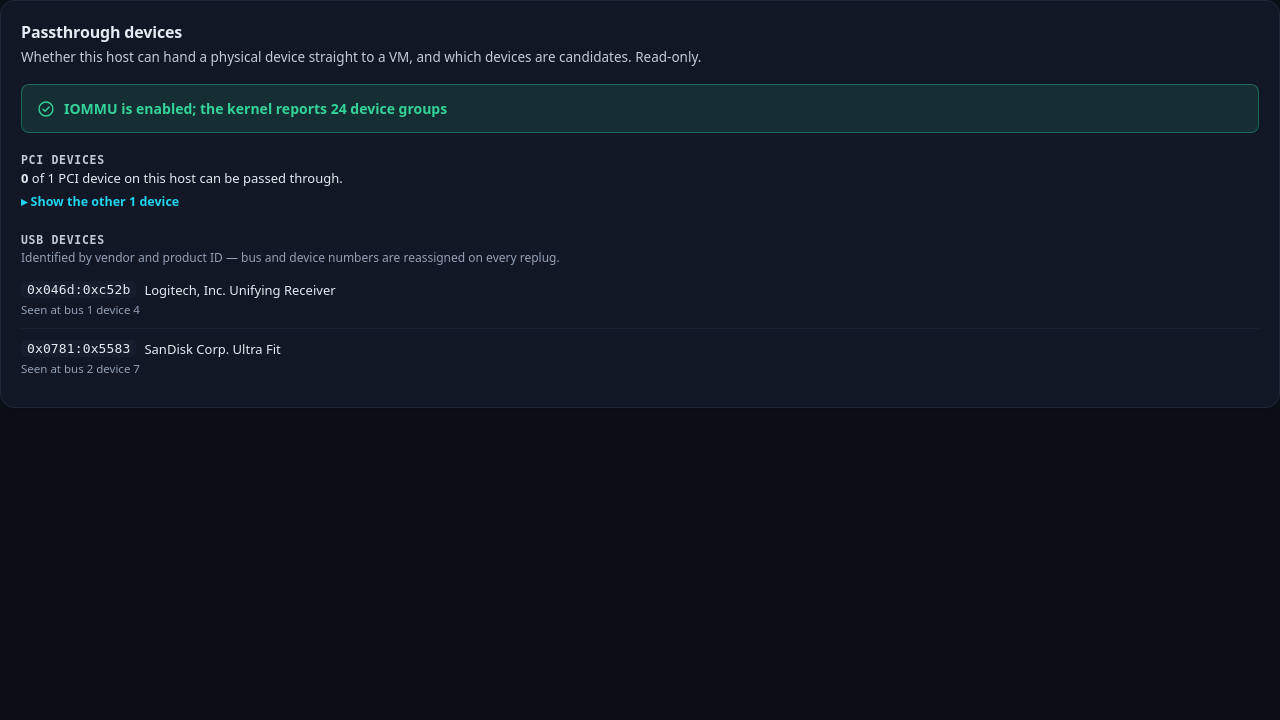
Test case: HostDevices › shows the reason next to unusable device 0000:00:1f.2
Expected: the heading "Passthrough devices" is shown, x1=21 y1=21 x2=182 y2=43
Expected: the text "IOMMU is enabled; the kernel reports 24 device groups" is shown, x1=64 y1=99 x2=447 y2=118
Click the button "▸ Show the other 1 device".
click(100, 201)  # box x1=21 y1=193 x2=179 y2=210
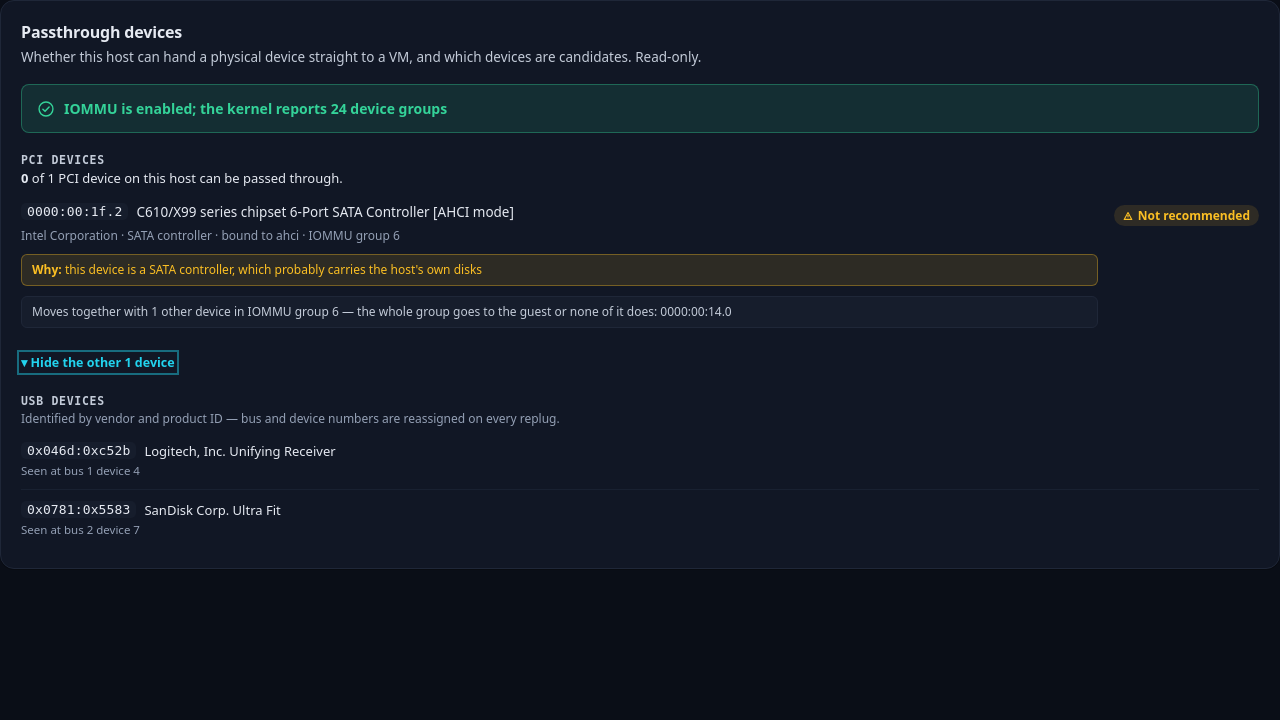
Now the text "this device is a SATA controller, which probably carries the host's own disks" is shown, box x1=65 y1=261 x2=482 y2=278
Now the text "Not recommended" is shown, box x1=1114 y1=205 x2=1259 y2=226
